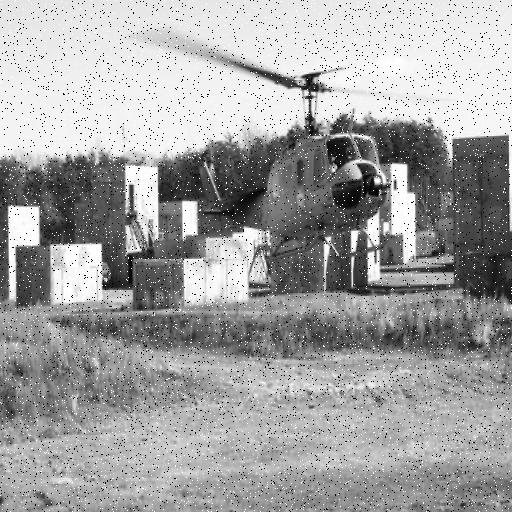helicopter: (143, 29, 407, 267)
